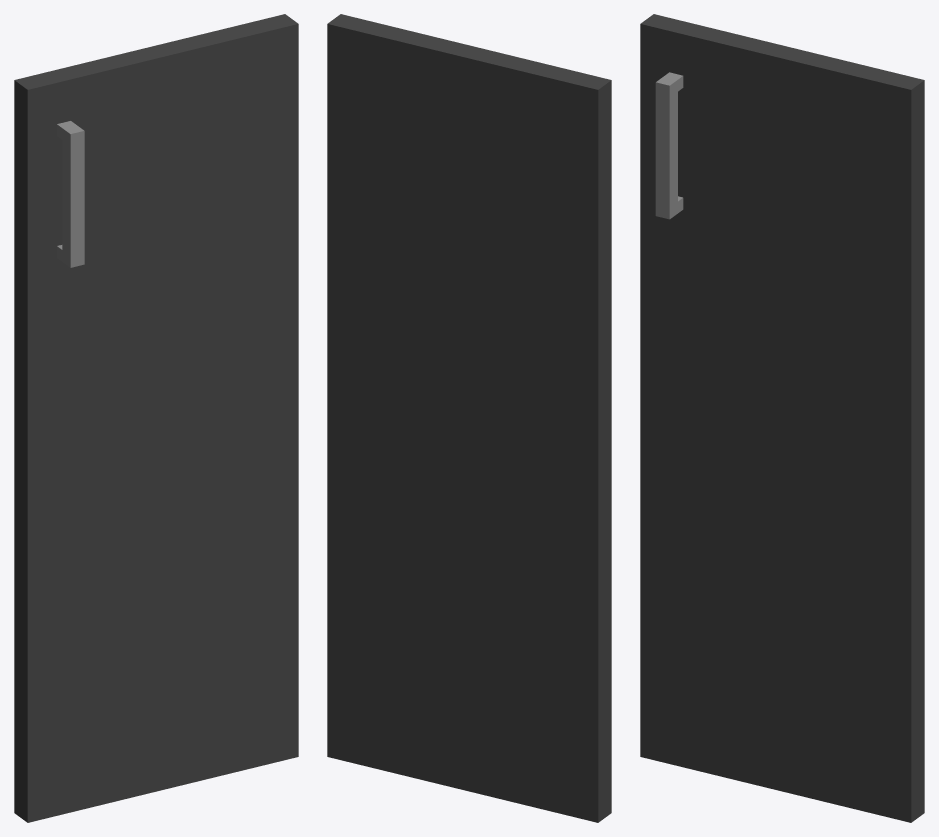
File: Door1_C3_03.fbx
3 renders of one model, left to right at view 1: azimuth 30°, elevation 25°; view 2: azimuth 150°, elevation 25°; view 3: azimuth 330°, elevation 25°, orthographic.
Visible parts, largest first — view 1: Door1_C3_03; view 2: Door1_C3_03; view 3: Door1_C3_03.
Boxes of the visible parts, left/top/right/bottom form: Door1_C3_03: left=14, top=14, right=298, bottom=822; Door1_C3_03: left=327, top=14, right=611, bottom=822; Door1_C3_03: left=640, top=14, right=924, bottom=822.
Bounding box in the file's own units: 29 × 75 × 5.03.
